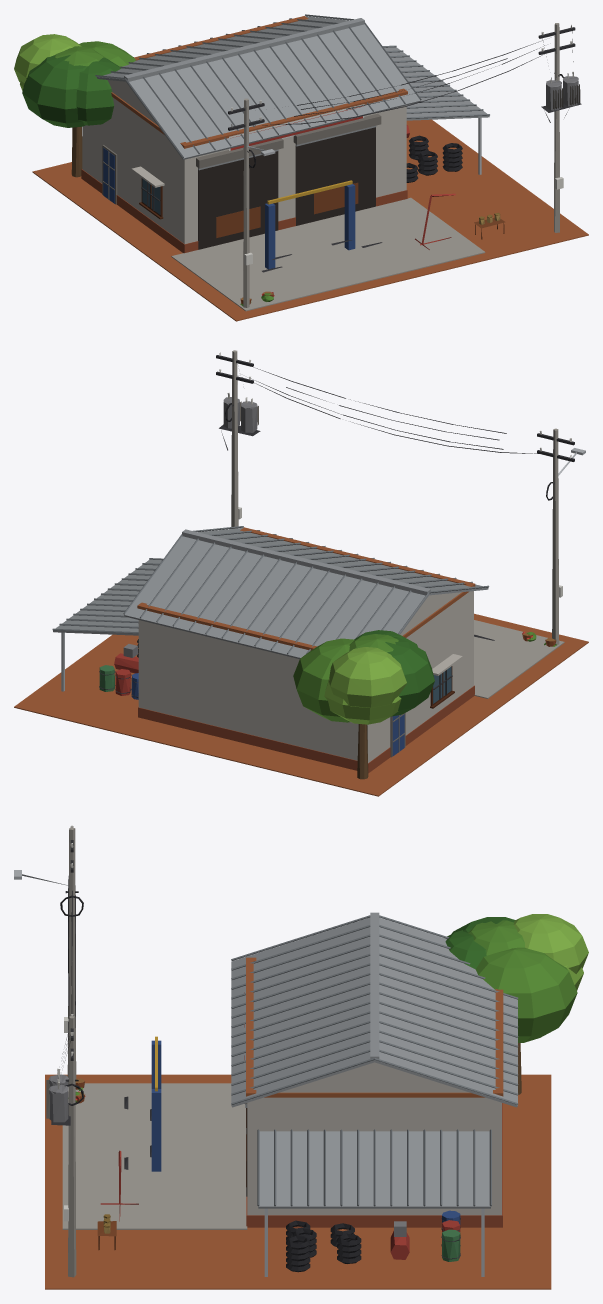
Rendered from factory_1.glb.
The picture shows the model from 3 angles, top to bottom: view 1: azimuth 30°, elevation 25°; view 2: azimuth 150°, elevation 25°; view 3: azimuth 270°, elevation 25°; orthographic projection. The views are drawn at different scales.
Parts seen in each view (by area): view 1: body, windows; view 2: body; view 3: body.
Part boxes in pixels (x1,y1,x2,y2): body: [14, 14, 588, 321]; windows: [142, 127, 375, 249]; body: [14, 350, 588, 796]; body: [14, 825, 588, 1289].
Size of the model in its own units: 17.02 by 9.29 by 18.05.
